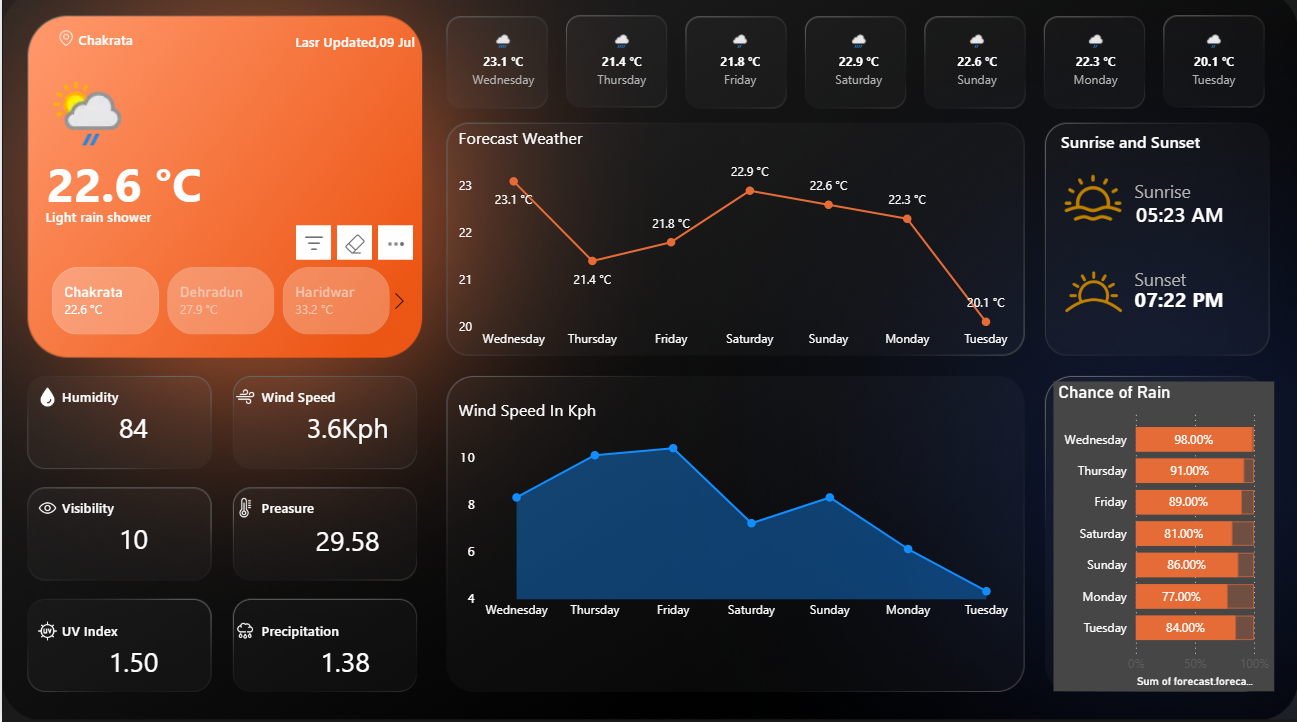

The page's visual inventory and layout, read from the dashboard file:
{"tool":"powerbi","page":{"name":"Page 1","canvas":[1280,720],"ordinal":0},"visuals":[{"type":"advancedSlicerVisual","fields":{"Values":["Locations.location.name"]},"box":[23.9,264.6,384,77.6],"z":0},{"type":"shape","box":[43.8,153.2,210.9,67.6],"z":1000},{"type":"shape","box":[43.5,206,211.7,28.3],"z":2000},{"type":"shape","box":[75.6,31.8,121.4,29.8],"z":3000},{"type":"shape","box":[197,35.8,210.9,23.9],"z":4000},{"type":"image","box":[49.7,29.8,25.9,29.8],"z":5000},{"type":"cardVisual","fields":{"Data":["Min(Current.current.condition.icon)"]},"box":[23.9,59.7,113.4,105.5],"z":6000},{"type":"image","box":[30,384,30,30],"z":7000},{"type":"image","box":[225.6,383.4,30,30],"z":8000},{"type":"image","box":[30,493.4,30,30],"z":9000},{"type":"image","box":[225.6,493.8,30,30],"z":10000},{"type":"image","box":[30,614.8,30,30],"z":11000},{"type":"image","box":[225.6,615.3,30,30],"z":12000},{"type":"shape","box":[60,383.4,137.3,30],"z":13000},{"type":"shape","box":[60,493.8,137.3,30],"z":14000},{"type":"shape","box":[60,615.3,137.3,30],"z":15000},{"type":"shape","box":[255.6,383.4,137.3,30],"z":16000},{"type":"shape","box":[255.6,615.3,137.3,30],"z":17000},{"type":"shape","box":[255.6,493.8,137.3,30],"z":18000},{"type":"card","fields":{"Values":["Sum(Current.current.humidity)"]},"box":[93.1,399.1,72.6,63.1],"z":19000},{"type":"card","fields":{"Values":["MeasureTable.Wind_Speed"]},"box":[288.7,399.1,104.1,63.1],"z":20000},{"type":"card","fields":{"Values":["Sum(Current.current.pressure_in)"]},"box":[288.7,509.6,104.1,63.1],"z":21000},{"type":"card","fields":{"Values":["Sum(Current.current.vis_km)"]},"box":[93.1,508,72.6,63.1],"z":22000},{"type":"card","fields":{"Values":["Sum(Current.current.uv)"]},"box":[93.1,629.5,72.6,63.1],"z":23000},{"type":"card","fields":{"Values":["Sum(Current.current.precip_mm)"]},"box":[302.9,629.5,72.6,63.1],"z":24000},{"type":"advancedSlicerVisual","fields":{"Values":["Forecast_Day.Day_Name"]},"box":[435.4,30,823.5,82],"z":25000},{"type":"lineChart","title":"Forecast Weather","fields":{"Y":["Sum(Forecast_Day.forecast.forecastday.day.avgtemp_c)"],"Category":["Forecast_Day.Day_Name"]},"box":[446.5,132.5,561.6,227.2],"z":26000},{"type":"shape","box":[1046,132.5,200.4,30],"z":27000},{"type":"shape","box":[1119.6,183.5,99.4,67.8],"z":28000},{"type":"shape","box":[1119.1,268.7,99.4,67.8],"z":29000},{"type":"shape","box":[1118,177.2,99.4,34.7],"z":30000},{"type":"shape","box":[1118,269.3,99.4,25.2],"z":31000},{"type":"image","box":[1034.9,168.8,83.6,66.3],"z":32000},{"type":"image","box":[1034.9,250.8,85.2,89.9],"z":33000},{"type":"hundredPercentStackedBarChart","title":"Chance of Rain","fields":{"Y":["Sum(Forecast_Day.forecast.forecastday.day.daily_chance_of_rain)","MeasureTable.Left_Value_Rain"],"Category":["Forecast_Day.Day_Name"]},"box":[1038.1,383.4,217.7,306.1],"z":34000},{"type":"lineChart","title":"Wind Speed In Kph","fields":{"Category":["Forecast_Day.Day_Name"],"Y":["Sum(Forecast_Day.forecast.forecastday.day.maxwind_kph)"]},"box":[446.6,399.7,562,227.5],"z":35000}]}

Visuals, with their boxes in screenshot pixels (x1, y1, x2, y2), scaled from the page's 1280x720 canvas onto the 1297x722 screenshot:
advancedSlicerVisual - Locations.location.name: 24, 265, 413, 343
shape: 44, 154, 258, 221
shape: 44, 207, 259, 235
shape: 77, 32, 200, 62
shape: 200, 36, 413, 60
image: 50, 30, 77, 60
cardVisual - Min(Current.current.condition.icon): 24, 60, 139, 166
image: 30, 385, 61, 415
image: 229, 384, 259, 415
image: 30, 495, 61, 525
image: 229, 495, 259, 525
image: 30, 617, 61, 647
image: 229, 617, 259, 647
shape: 61, 384, 200, 415
shape: 61, 495, 200, 525
shape: 61, 617, 200, 647
shape: 259, 384, 398, 415
shape: 259, 617, 398, 647
shape: 259, 495, 398, 525
card - Sum(Current.current.humidity): 94, 400, 168, 463
card - MeasureTable.Wind_Speed: 293, 400, 398, 463
card - Sum(Current.current.pressure_in): 293, 511, 398, 574
card - Sum(Current.current.vis_km): 94, 509, 168, 573
card - Sum(Current.current.uv): 94, 631, 168, 695
card - Sum(Current.current.precip_mm): 307, 631, 380, 695
advancedSlicerVisual - Forecast_Day.Day_Name: 441, 30, 1276, 112
"Forecast Weather" lineChart: 452, 133, 1021, 361
shape: 1060, 133, 1263, 163
shape: 1134, 184, 1235, 252
shape: 1134, 269, 1235, 337
shape: 1133, 178, 1234, 212
shape: 1133, 270, 1234, 295
image: 1049, 169, 1133, 236
image: 1049, 251, 1135, 342
"Chance of Rain" hundredPercentStackedBarChart: 1052, 384, 1272, 691
"Wind Speed In Kph" lineChart: 453, 401, 1022, 629
